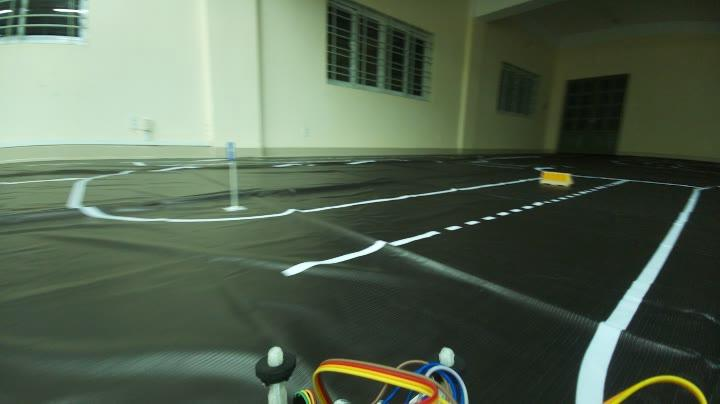onewayroad: (220, 136, 238, 166)
